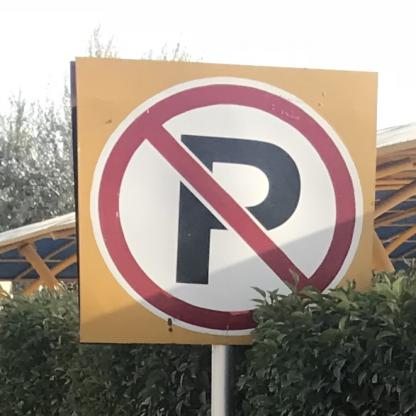No Parking: (74, 61, 383, 348)
